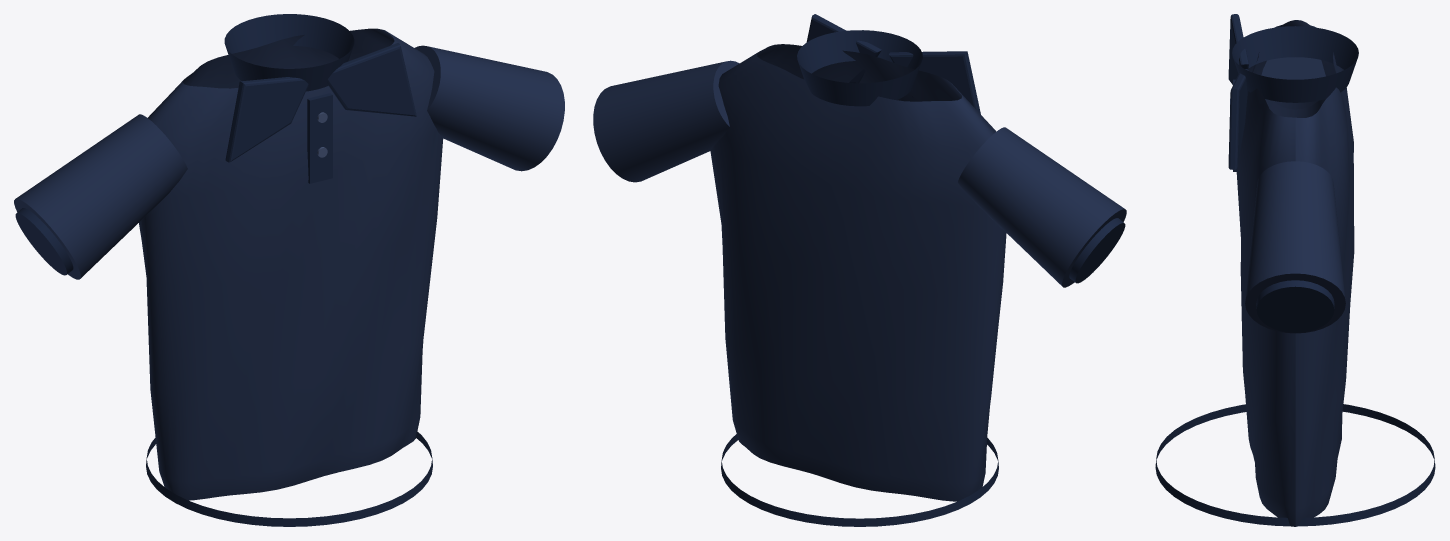
Rendered from polo_shirt.glb.
3 views of the same model, side by side, from view 1: azimuth 30°, elevation 25°; view 2: azimuth 150°, elevation 25°; view 3: azimuth 270°, elevation 25° (orthographic). The views are drawn at different scales.
Visible parts, largest first — view 1: pique_body, sleeve_-1, sleeve_1, inner_neck, collar_1, collar_-1, hem, placket, cuff_-1; view 2: pique_body, sleeve_-1, sleeve_1, inner_neck, hem, collar_-1, cuff_-1, collar_1; view 3: pique_body, sleeve_1, inner_neck, hem, cuff_1, sleeve_-1, collar_1, collar_-1.
Boxes of the visible parts, x1=… form: pique_body: x1=139, y1=28, x2=443, y2=500; sleeve_-1: x1=14, y1=114, x2=187, y2=279; sleeve_1: x1=415, y1=45, x2=564, y2=171; inner_neck: x1=224, y1=14, x2=354, y2=91; collar_1: x1=327, y1=43, x2=416, y2=116; collar_-1: x1=225, y1=77, x2=308, y2=162; hem: x1=146, y1=431, x2=432, y2=526; placket: x1=307, y1=93, x2=332, y2=183; cuff_-1: x1=15, y1=208, x2=73, y2=275; pique_body: x1=710, y1=44, x2=1006, y2=501; sleeve_-1: x1=958, y1=127, x2=1126, y2=287; sleeve_1: x1=593, y1=60, x2=739, y2=182; inner_neck: x1=797, y1=30, x2=922, y2=106; hem: x1=721, y1=434, x2=998, y2=526; collar_-1: x1=889, y1=51, x2=980, y2=114; cuff_-1: x1=1069, y1=218, x2=1125, y2=283; collar_1: x1=806, y1=14, x2=881, y2=83; pique_body: x1=1236, y1=20, x2=1354, y2=526; sleeve_1: x1=1245, y1=161, x2=1345, y2=333; inner_neck: x1=1232, y1=26, x2=1358, y2=102; hem: x1=1155, y1=404, x2=1435, y2=526; cuff_1: x1=1256, y1=280, x2=1334, y2=332; sleeve_-1: x1=1248, y1=25, x2=1343, y2=109; collar_1: x1=1228, y1=69, x2=1248, y2=169; collar_-1: x1=1228, y1=14, x2=1248, y2=84.
Size of the model in its own units: 3.19 by 2.46 by 1.5.
